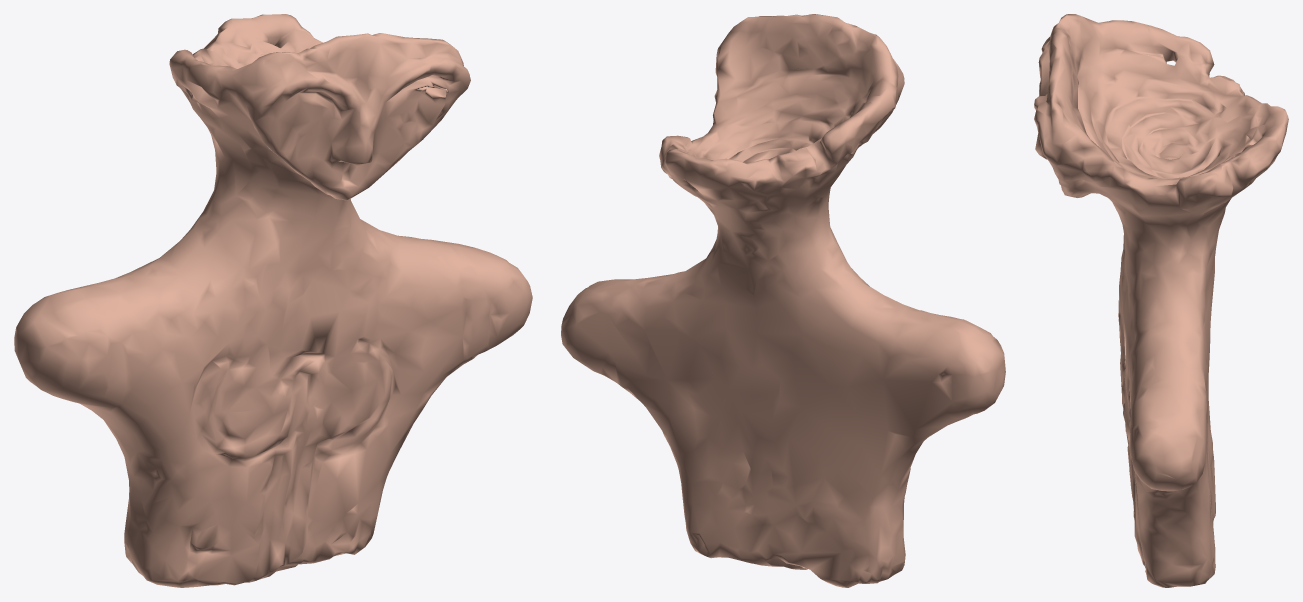
Rendered from wc-dogu-clay-figurine.lod1.glb.
3 renders of one model, left to right at view 1: azimuth 30°, elevation 25°; view 2: azimuth 150°, elevation 25°; view 3: azimuth 270°, elevation 25°, orthographic. The views are drawn at different scales.
Parts seen in each view (by area): view 1: wc-dogu-clay-figurine; view 2: wc-dogu-clay-figurine; view 3: wc-dogu-clay-figurine.
Boxes of the visible parts, x1,y1,x2,y2 form: wc-dogu-clay-figurine: [14, 14, 532, 587]; wc-dogu-clay-figurine: [561, 14, 1005, 587]; wc-dogu-clay-figurine: [1034, 14, 1288, 587].
Bounding box in the file's own units: 0.1802 × 0.1998 × 0.0883.
